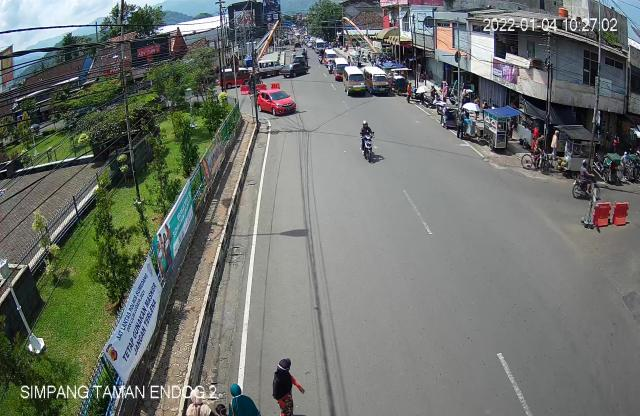Mobil: (256, 87, 302, 123)
Motor: (570, 155, 605, 201), (358, 118, 381, 164)
